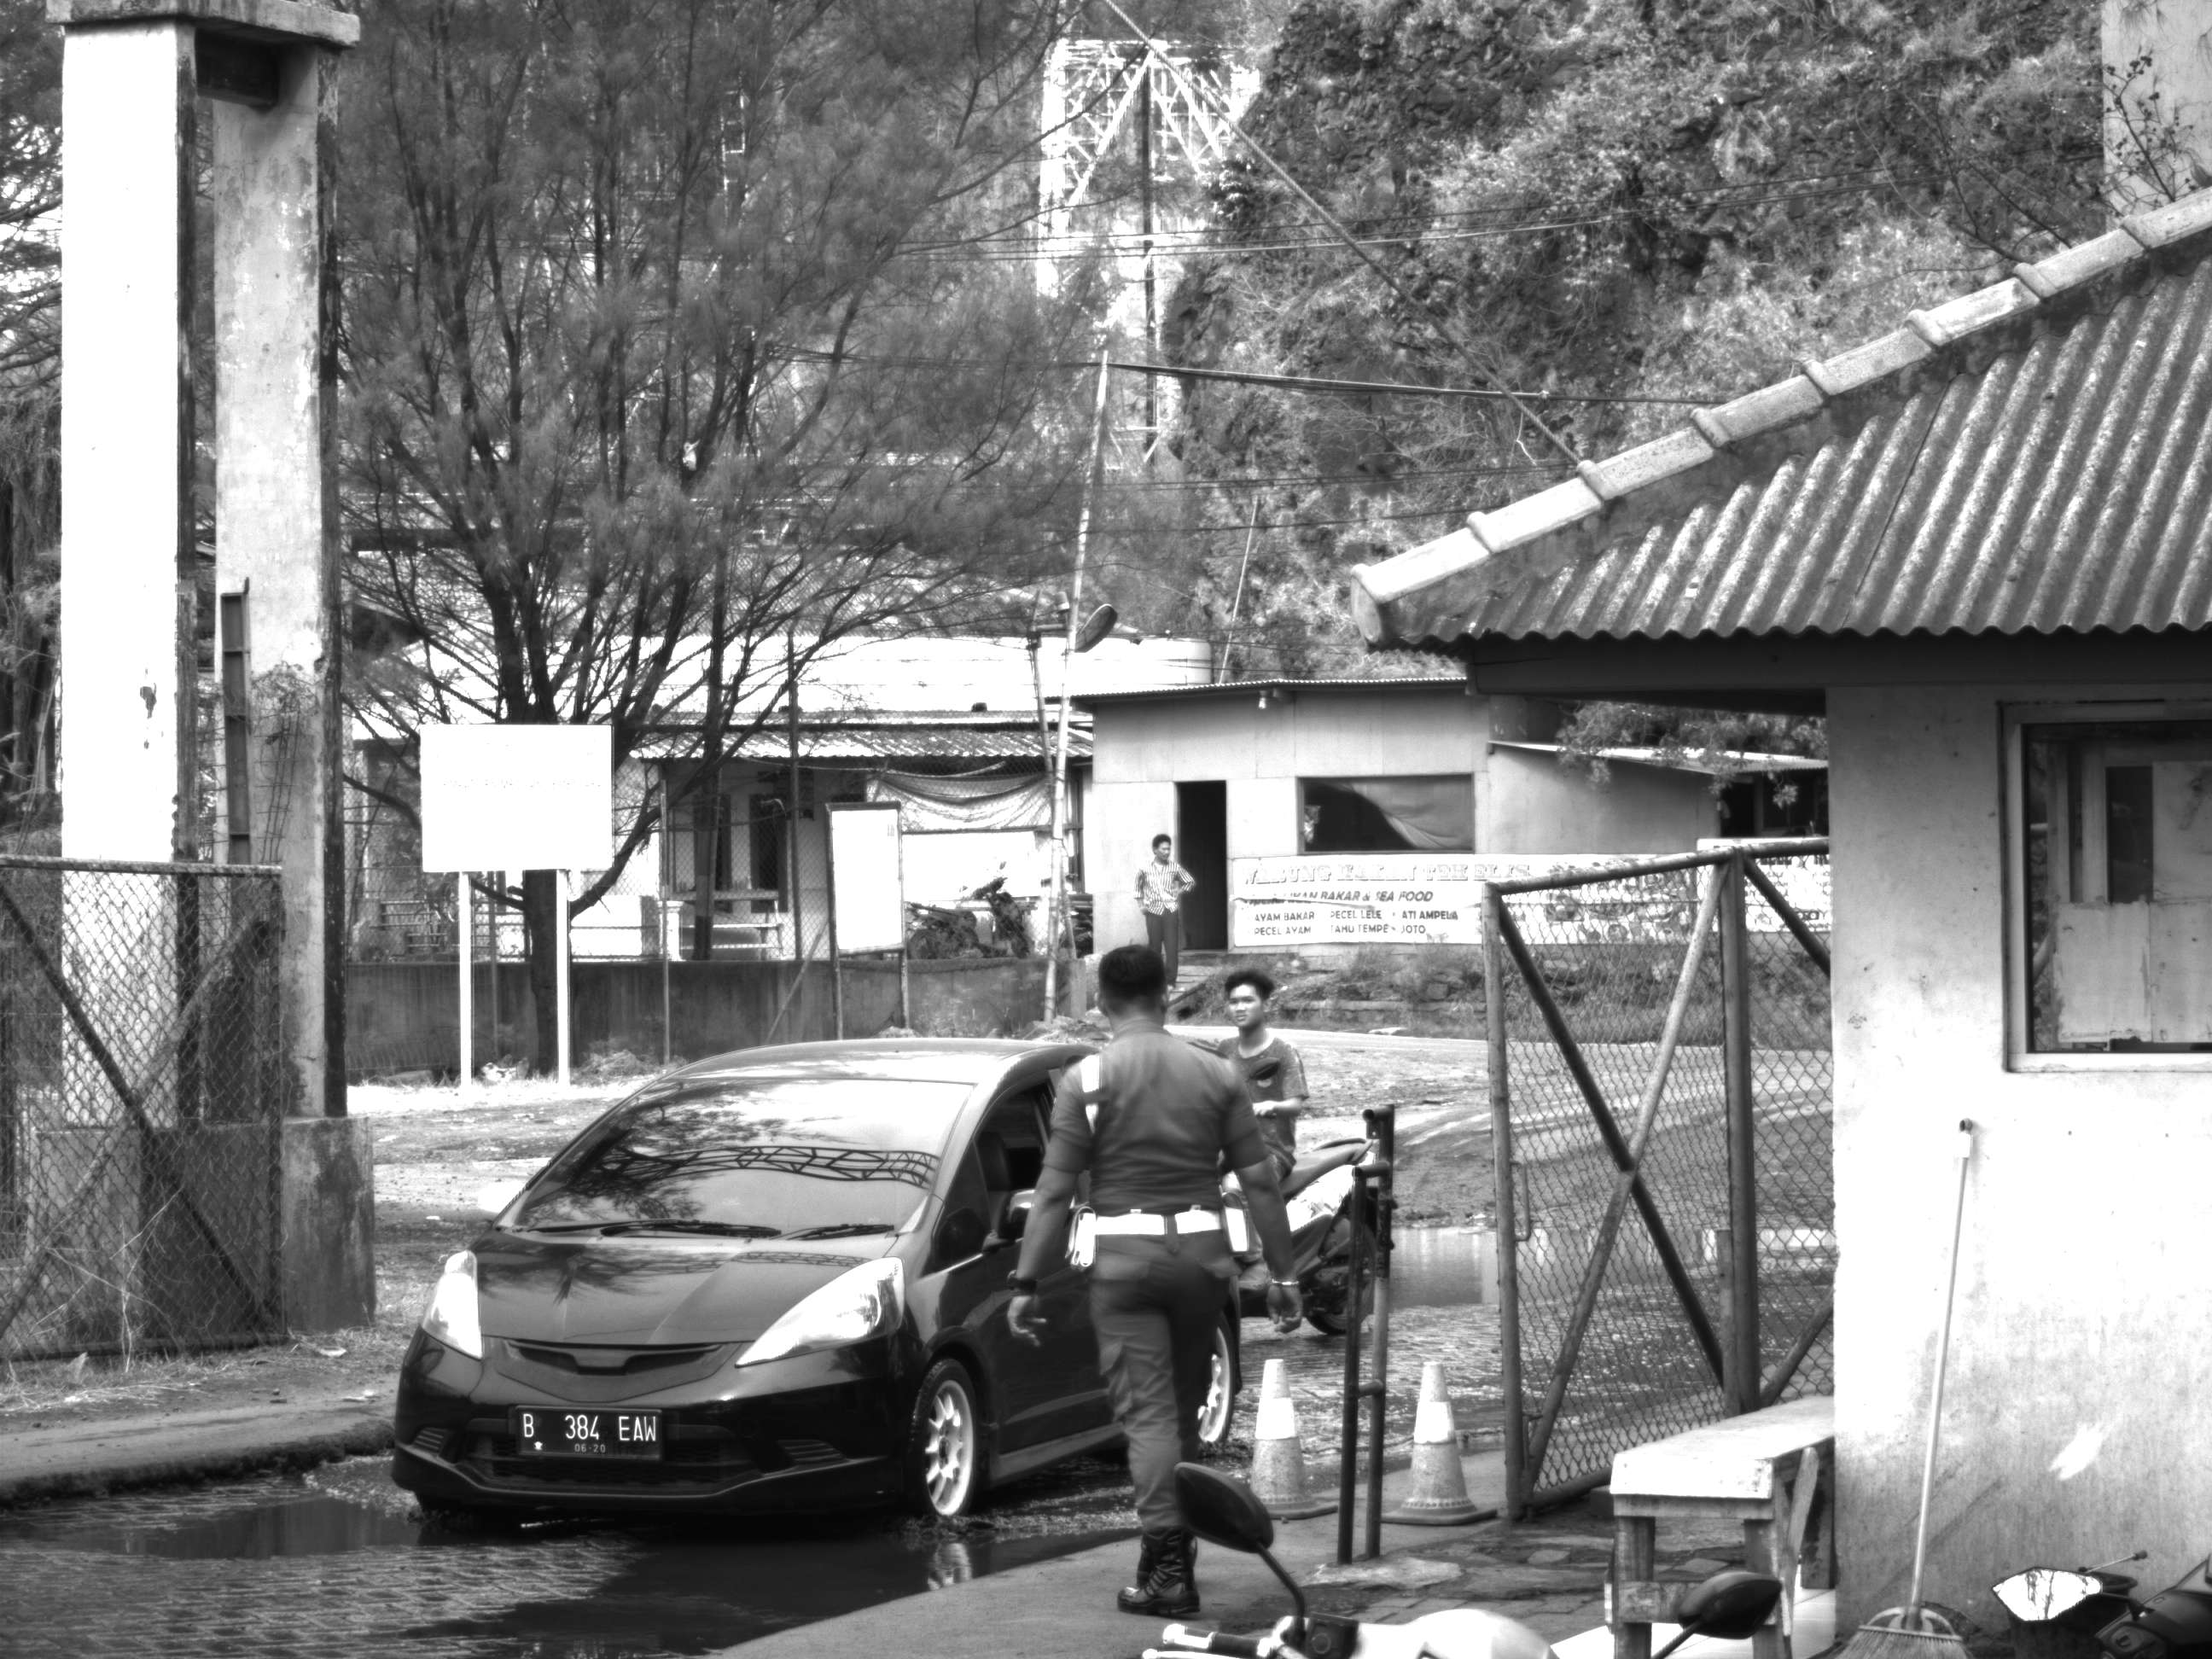day_small_front: (392, 1053, 998, 1535)
plate: (514, 1403, 667, 1466)
